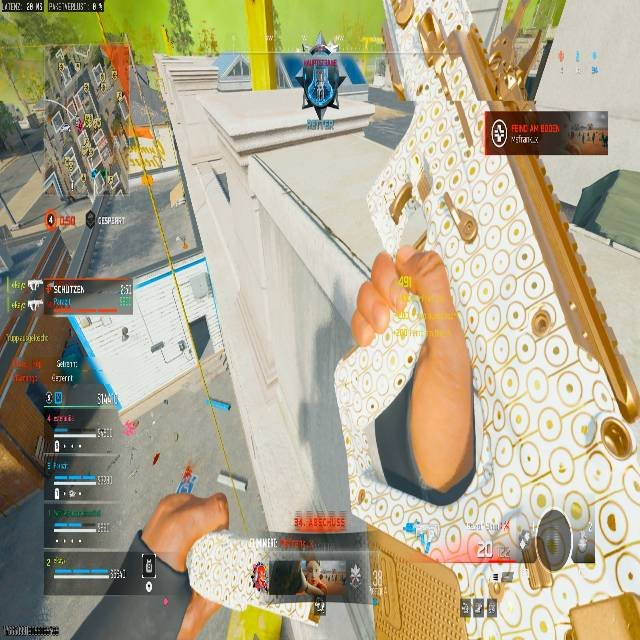head: (314, 32, 326, 45)
player: (297, 34, 341, 124), (250, 562, 265, 593)
